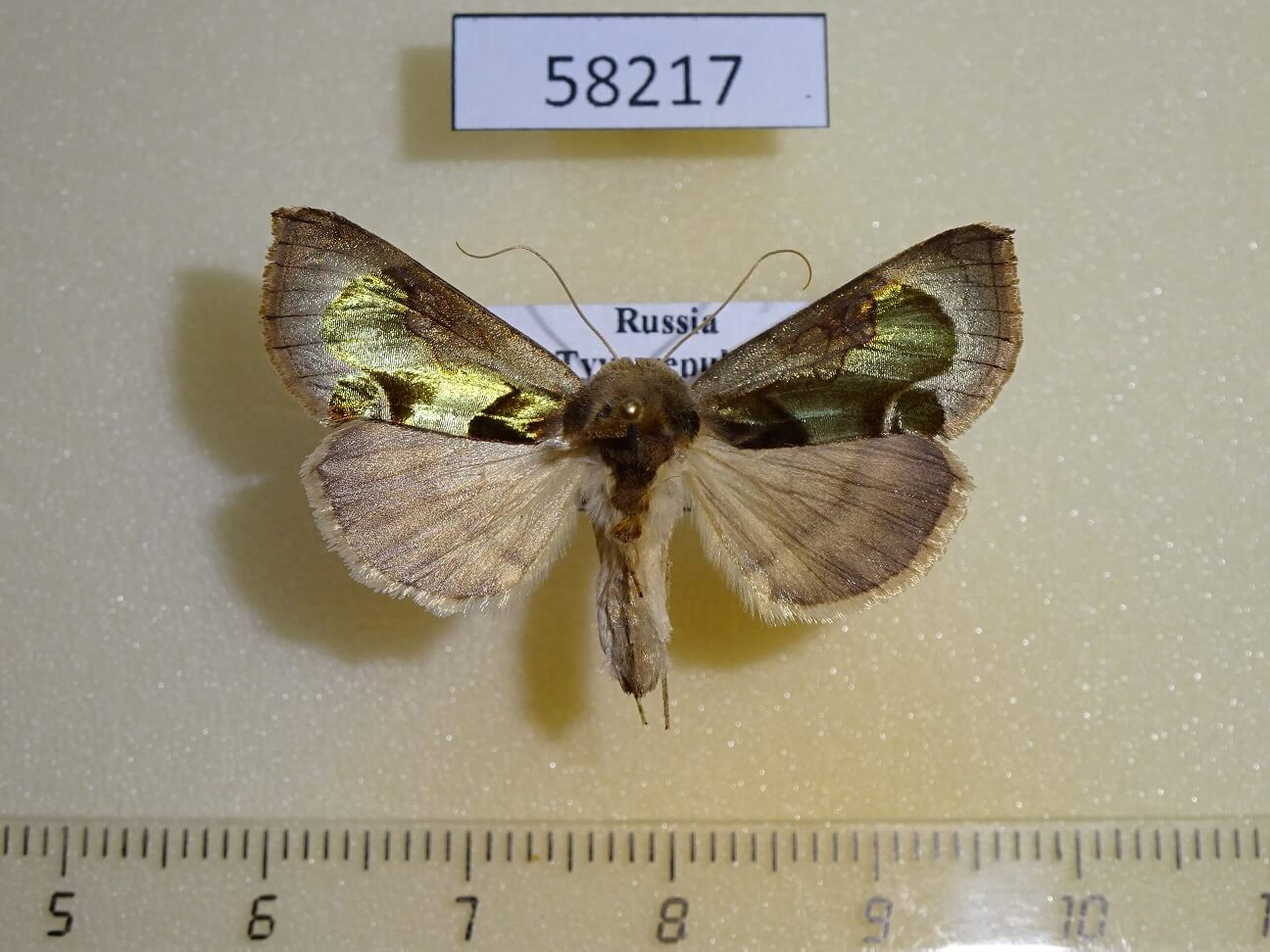Noctuidae: (256, 203, 1027, 731)
